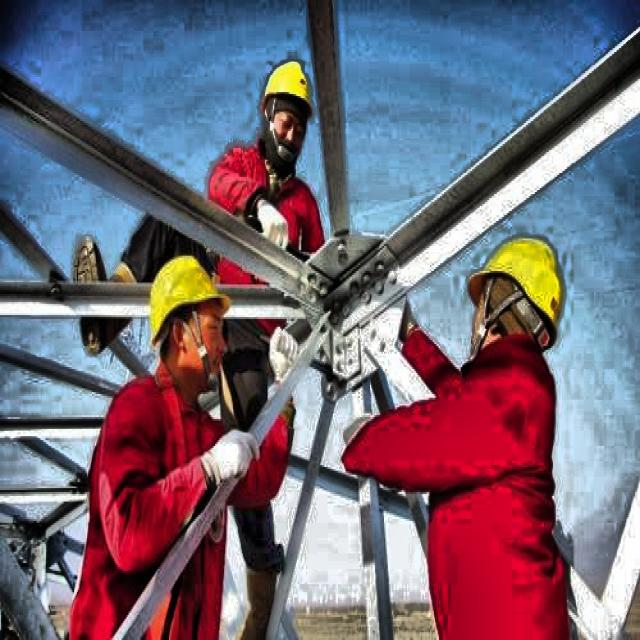helmet: (458, 227, 570, 371), (140, 244, 234, 386), (256, 48, 317, 173)
